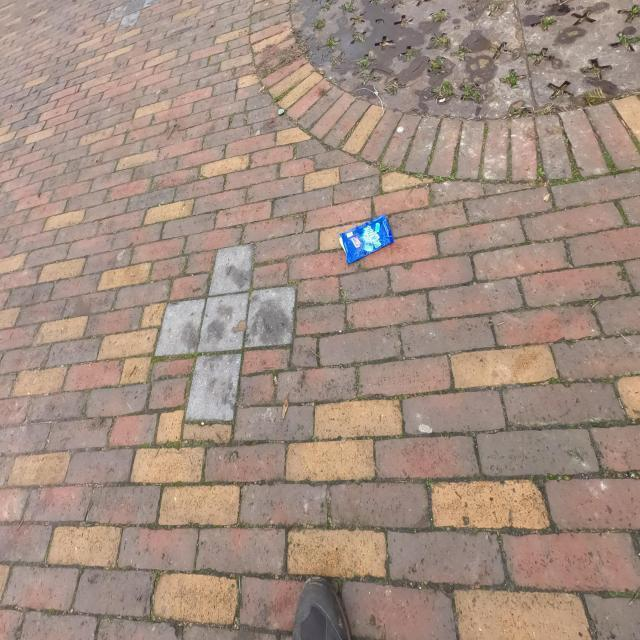Plastic: (338, 213, 395, 265)
